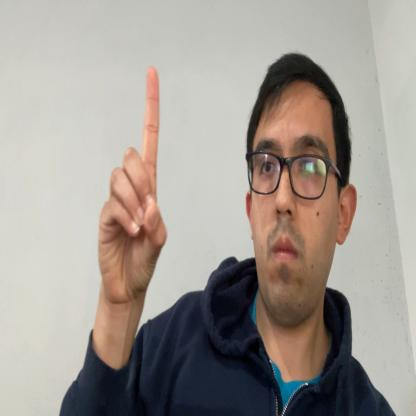D: (97, 65, 167, 298)
